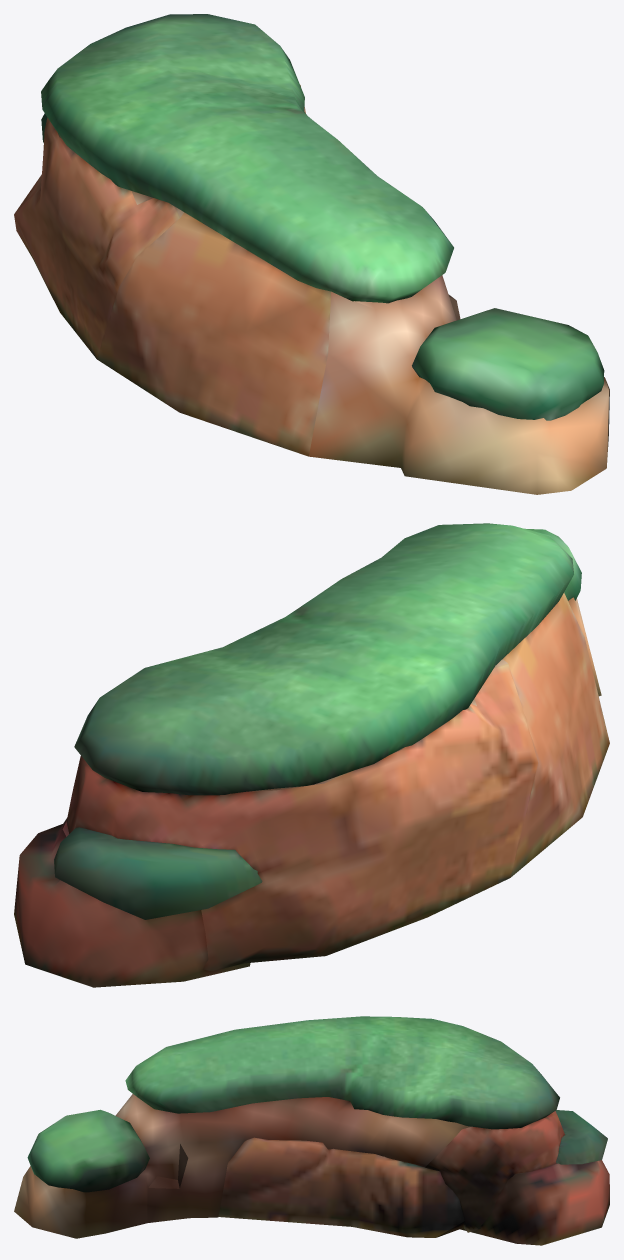
Rendered from pref_sm_4v4beachtech_bk_centerblock_R01b_lv0.fbx.
3 renders of one model, top to bottom at view 1: azimuth 30°, elevation 25°; view 2: azimuth 150°, elevation 25°; view 3: azimuth 270°, elevation 25°, orthographic. The views are drawn at different scales.
Visible parts, largest first — view 1: sm_4v4beachtech_bk_centerblock_R01b_lv0; view 2: sm_4v4beachtech_bk_centerblock_R01b_lv0; view 3: sm_4v4beachtech_bk_centerblock_R01b_lv0.
Part boxes in pixels (left/top/right/bottom): sm_4v4beachtech_bk_centerblock_R01b_lv0: left=14, top=14, right=609, bottom=494; sm_4v4beachtech_bk_centerblock_R01b_lv0: left=14, top=523, right=609, bottom=987; sm_4v4beachtech_bk_centerblock_R01b_lv0: left=14, top=1016, right=609, bottom=1245.
Bounding box in the file's own units: 3.16 × 2.07 × 7.71.
